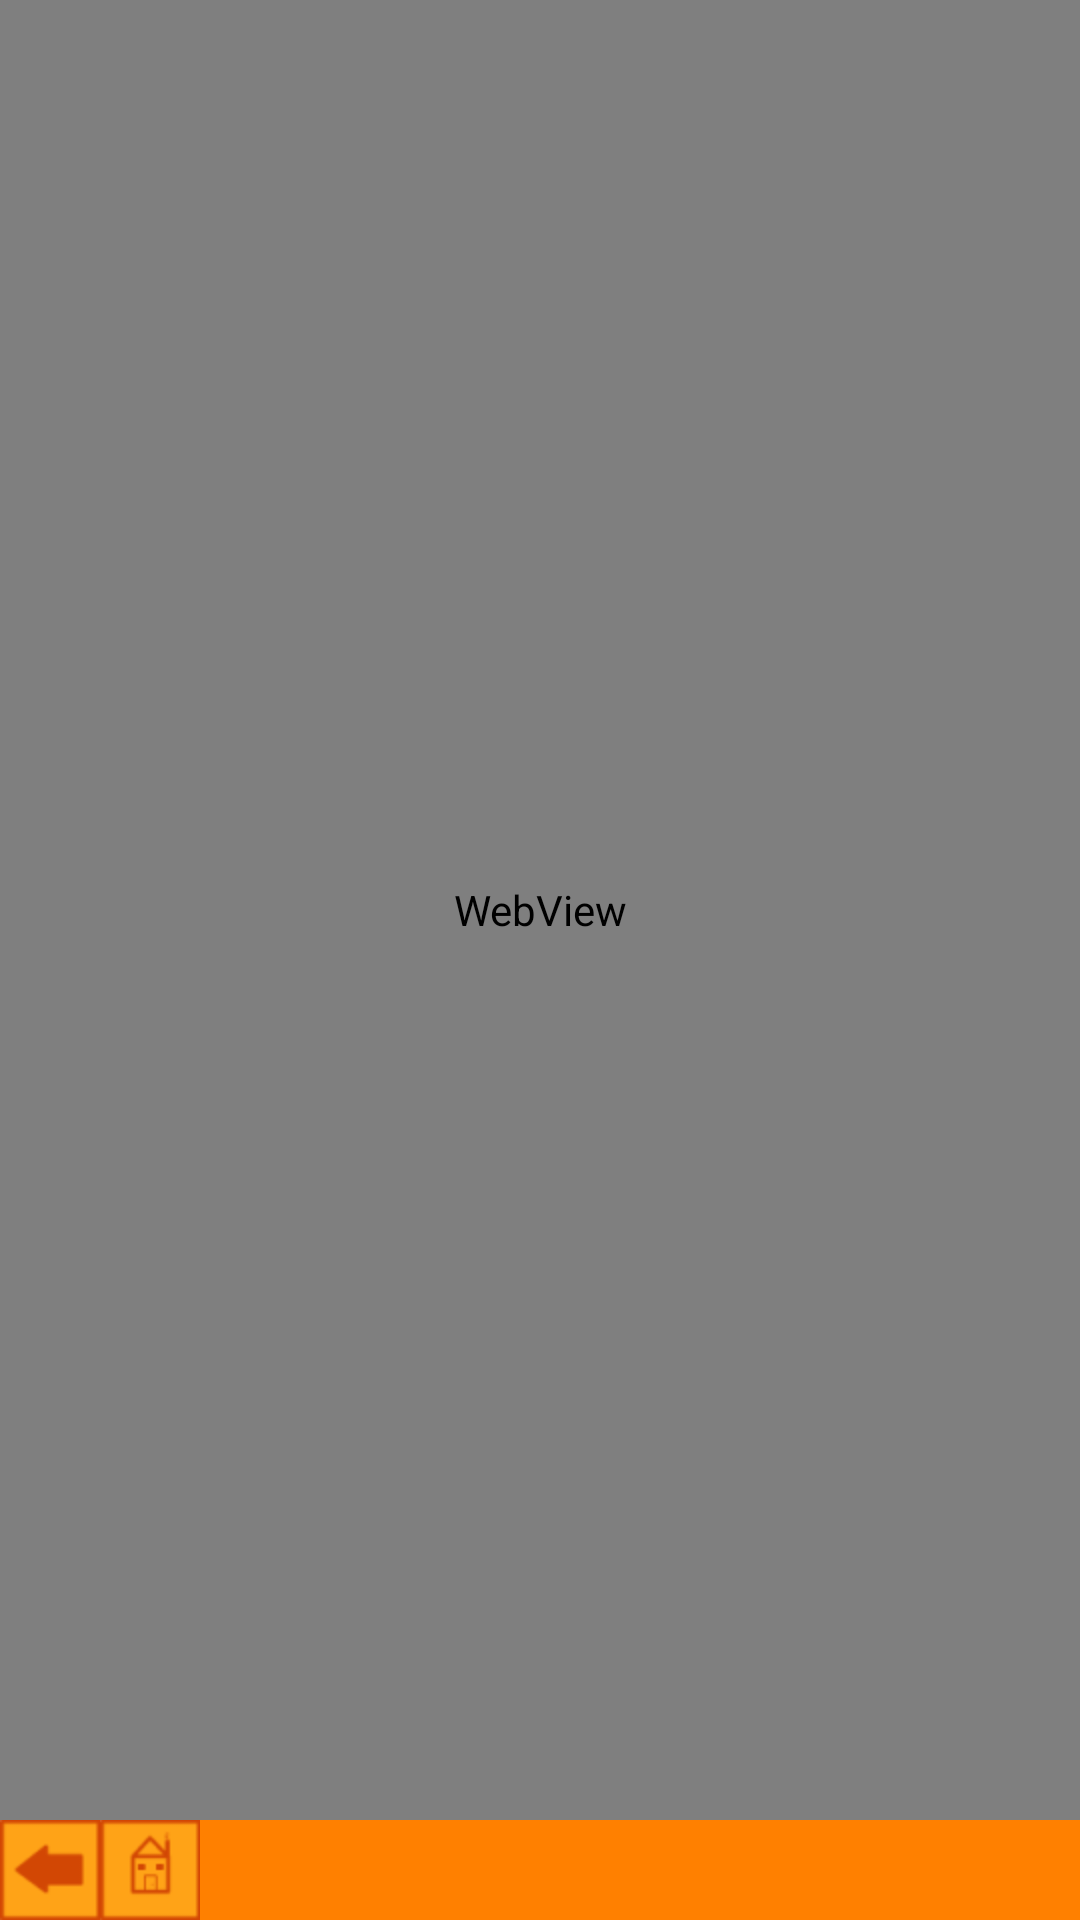

Icon click points for this 1080*1920 phone screenshot, format [x,y]:
back: [50,1870]
home: [150,1870]
